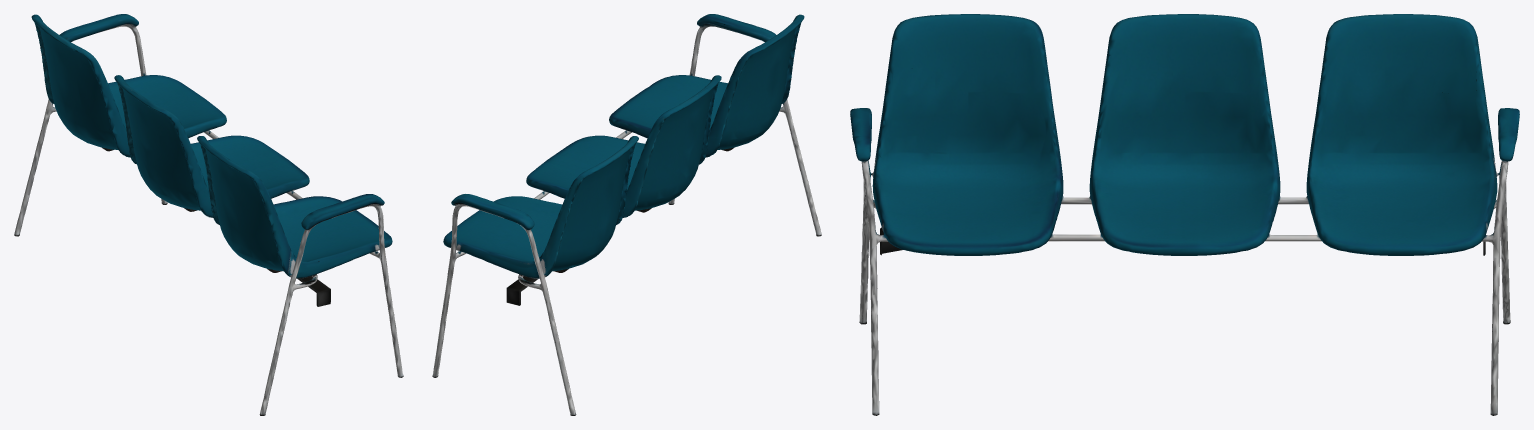
The picture shows the model from 3 angles, left to right: view 1: azimuth 30°, elevation 25°; view 2: azimuth 150°, elevation 25°; view 3: azimuth 270°, elevation 25°; orthographic projection. The views are drawn at different scales.
Parts seen in each view (by area): view 1: repaired; view 2: repaired; view 3: repaired.
Boxes of the visible parts, x1,y1,x2,y2 form: repaired: (14, 14, 403, 415); repaired: (432, 14, 821, 415); repaired: (850, 14, 1519, 415).
Bounding box in the file's own units: 0.3534 × 0.5051 × 0.9995.
Materials: 1 (1 with a texture image).
